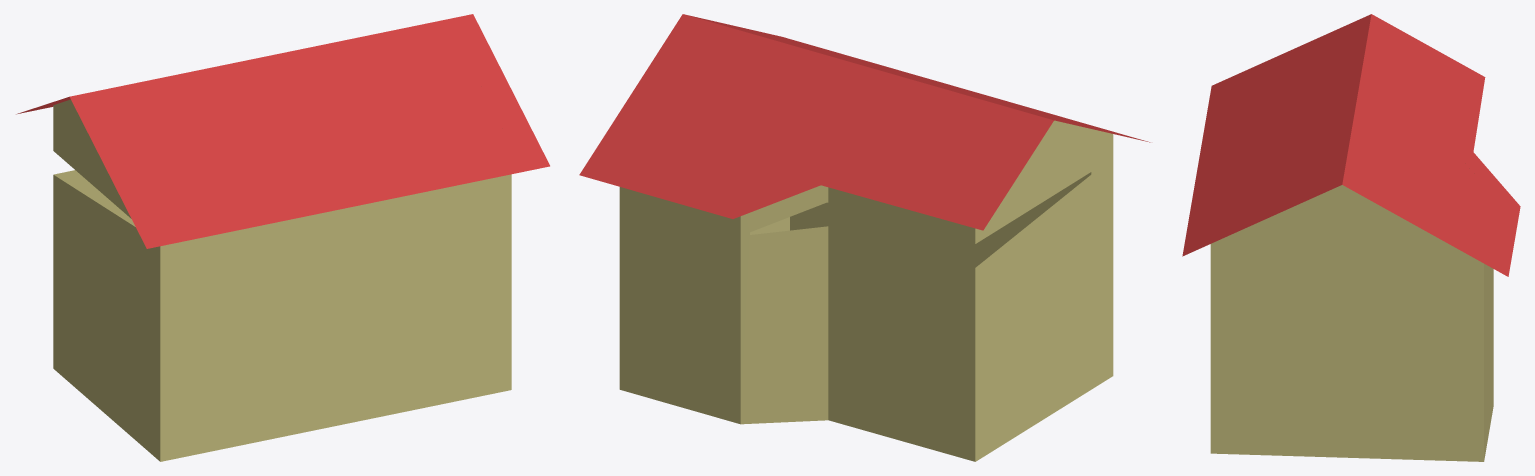
3 views of the same model, side by side, from view 1: azimuth 30°, elevation 25°; view 2: azimuth 150°, elevation 25°; view 3: azimuth 270°, elevation 25° (orthographic). The views are drawn at different scales.
Size of the model in its own units: 16.22 by 12.83 by 11.88.
